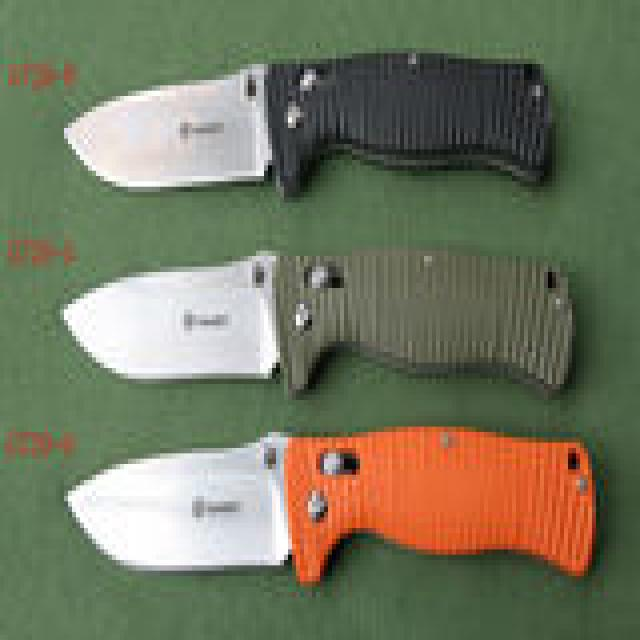Knife: (55, 46, 613, 604)
